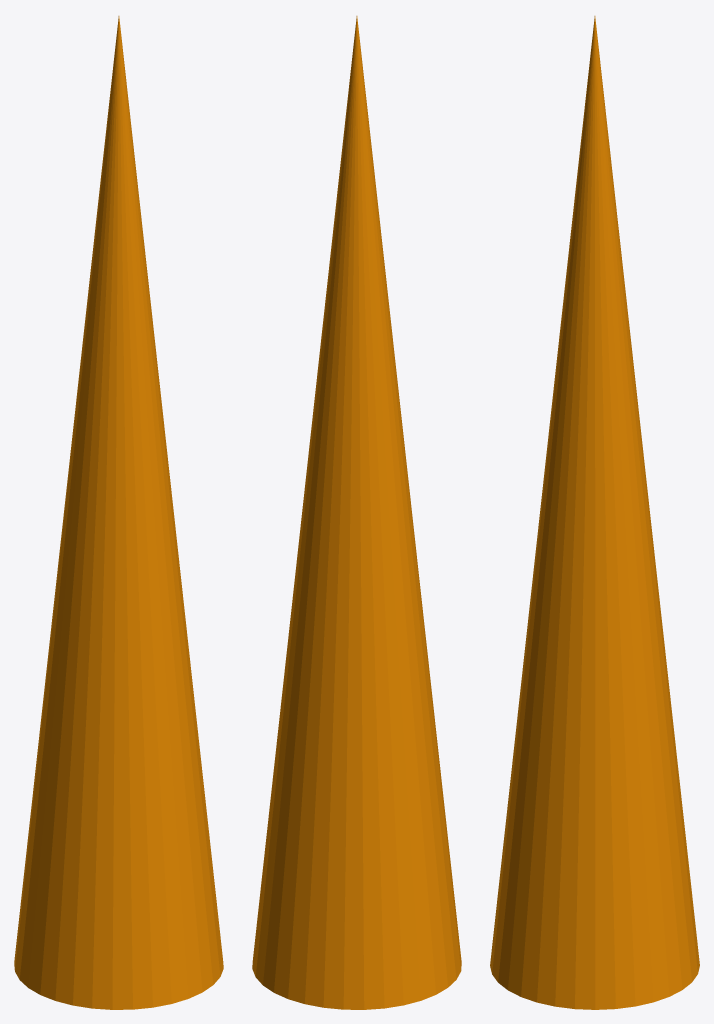
The model's file is @border.obj.
The picture shows the model from 3 angles, left to right: view 1: azimuth 30°, elevation 25°; view 2: azimuth 150°, elevation 25°; view 3: azimuth 270°, elevation 25°; orthographic projection.
Visible parts, largest first — view 1: @border.007; view 2: @border.007; view 3: @border.007.
Part boxes in pixels (<box>): @border.007: <box>14,16,223,1009</box>; @border.007: <box>252,16,461,1009</box>; @border.007: <box>490,16,699,1009</box>.
Bounding box in the file's own units: 40 × 200 × 40.
1 material, 1 textured.
